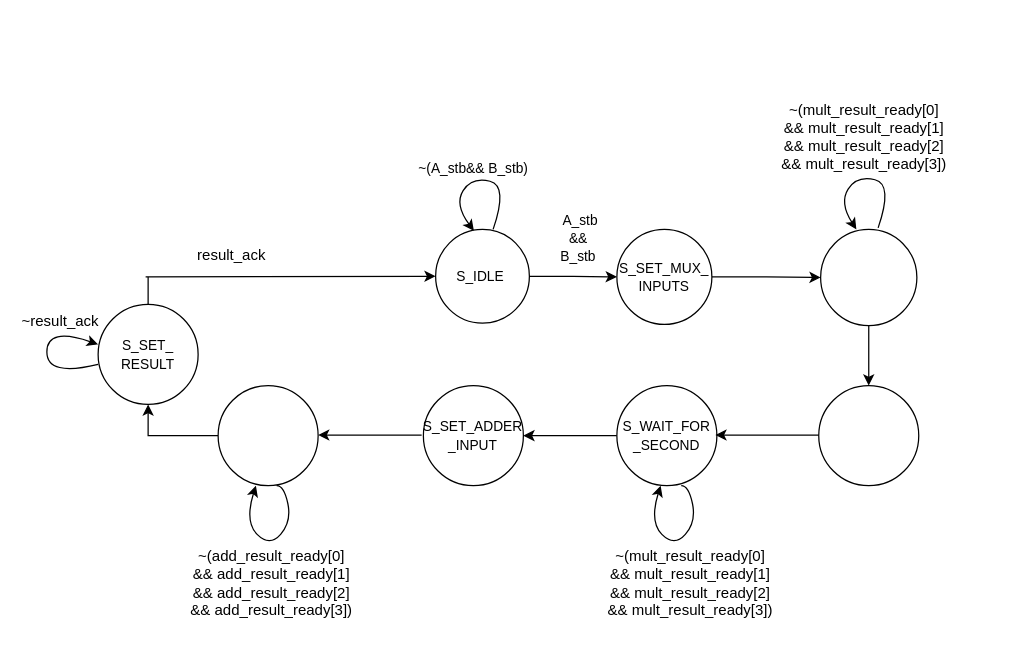
Some shapes in this 1026 by 655 pixel diagram are drawn without their labels. Here are the shapes that lost their labels. From the top down, the centre of each, then its label:
At point (868, 277): "S_WAIT_FOR _FIRST".
At point (267, 435): "S_WAIT_FOR ADDER".
At point (868, 435): "S_SHIFT".
